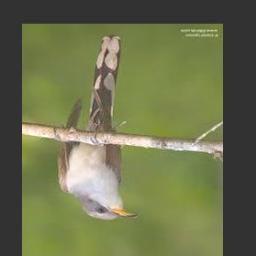Cuckoo: (57, 36, 139, 220)
